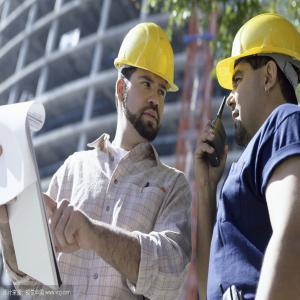yellow: (219, 11, 300, 150), (113, 23, 179, 142)
